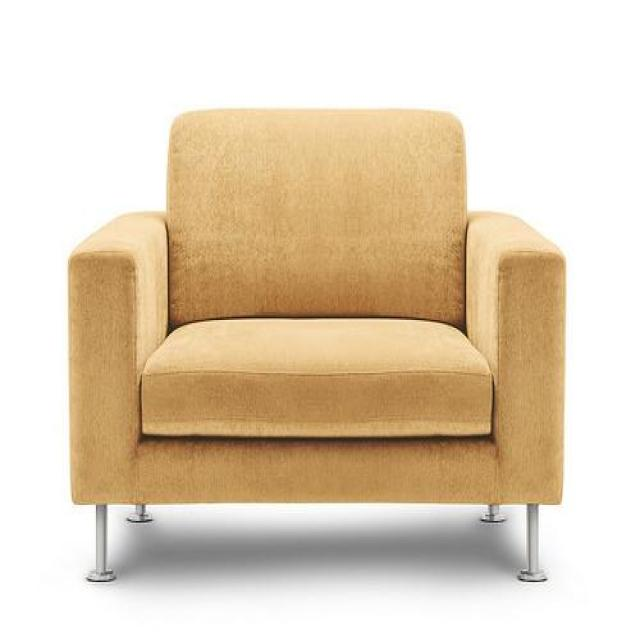sofa: (67, 104, 566, 584)
